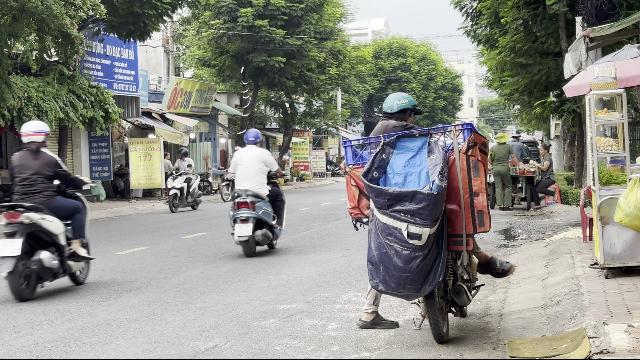helmet: (18, 120, 50, 150), (242, 127, 262, 146)
licenseplate: (0, 238, 22, 256), (235, 224, 253, 236)
motorcyclist: (0, 118, 94, 300), (224, 126, 286, 256), (165, 146, 201, 212)
